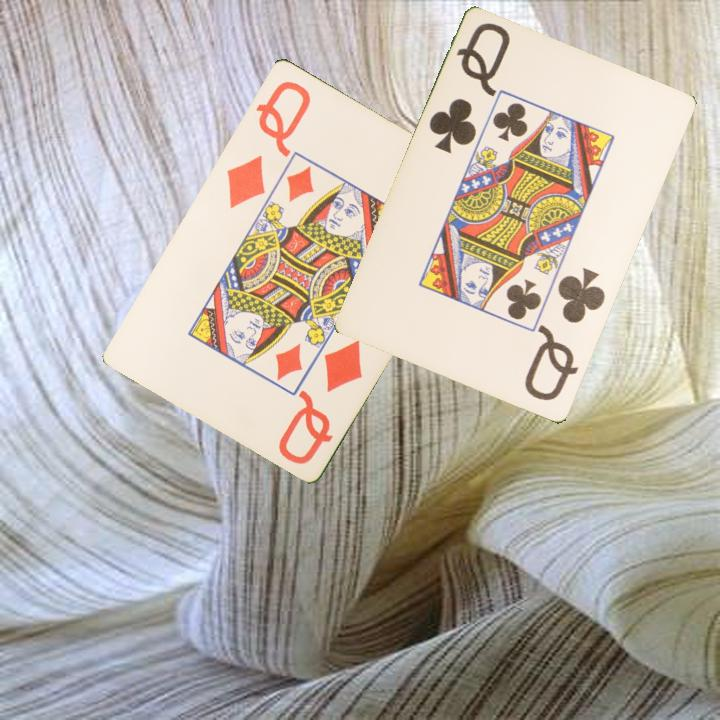Qc: (521, 264, 609, 405), (425, 19, 514, 157)
Qd: (222, 76, 314, 211), (274, 335, 366, 467)
